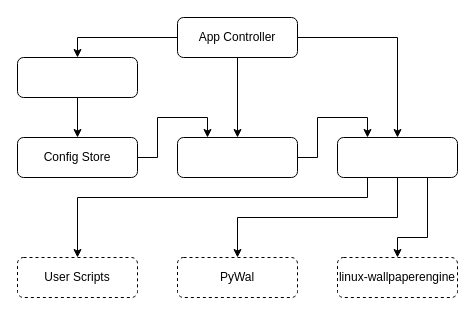
Some shapes in this 475 by 315 pixel diagram are drawn without their labels. The box of each missing label's shape, as (x1, y1, x2, y2) in pixels:
Argument Manager: (176, 136, 298, 178)
Command Abstraction Level: (336, 136, 458, 178)
GUI Manager: (16, 56, 138, 98)
